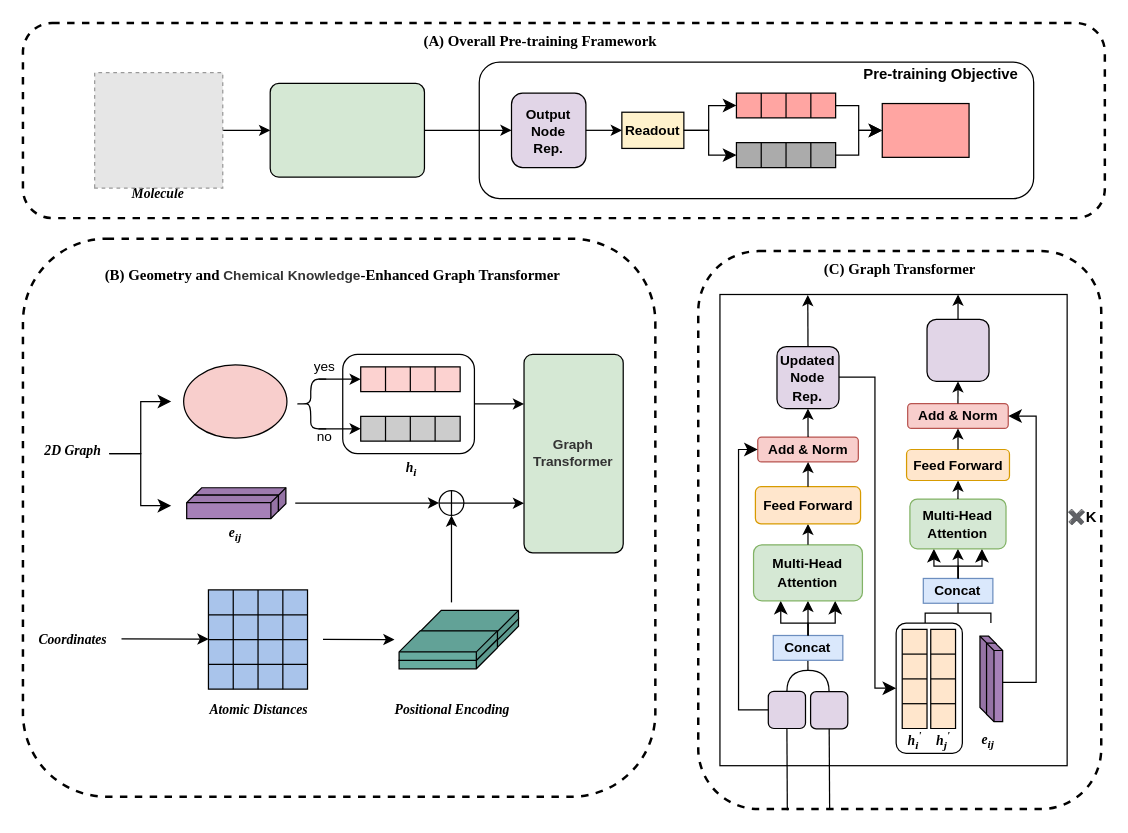
The diagram is 1128 pixels wide and 833 high, and some of its shapes have lost their labels. Grey dashed boxes stand in for pictures. Here are the shapes that lost their labels. From the top down, the centre of each, then its label:
point 346,129: Geometry and Chemical Knowledge-Enhanced Graph Transformer
point 925,129: Contrastive Learning
point 957,349: Updated Edge Rep .
point 234,401: Chemical Knowledge-Enhanced?
point 786,709: Node Rep.
point 828,709: Edge Rep.
